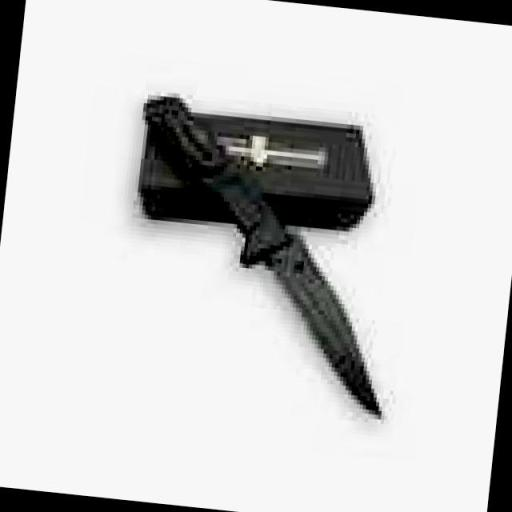knife: (74, 82, 479, 473)
